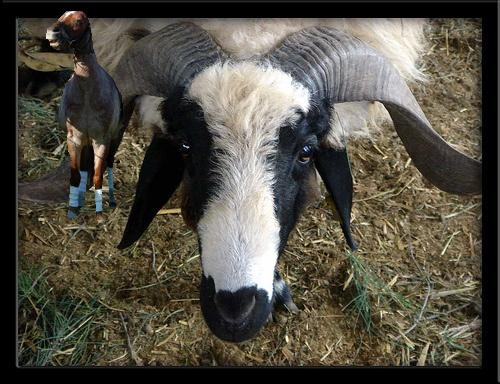tampered: (47, 12, 124, 223)
